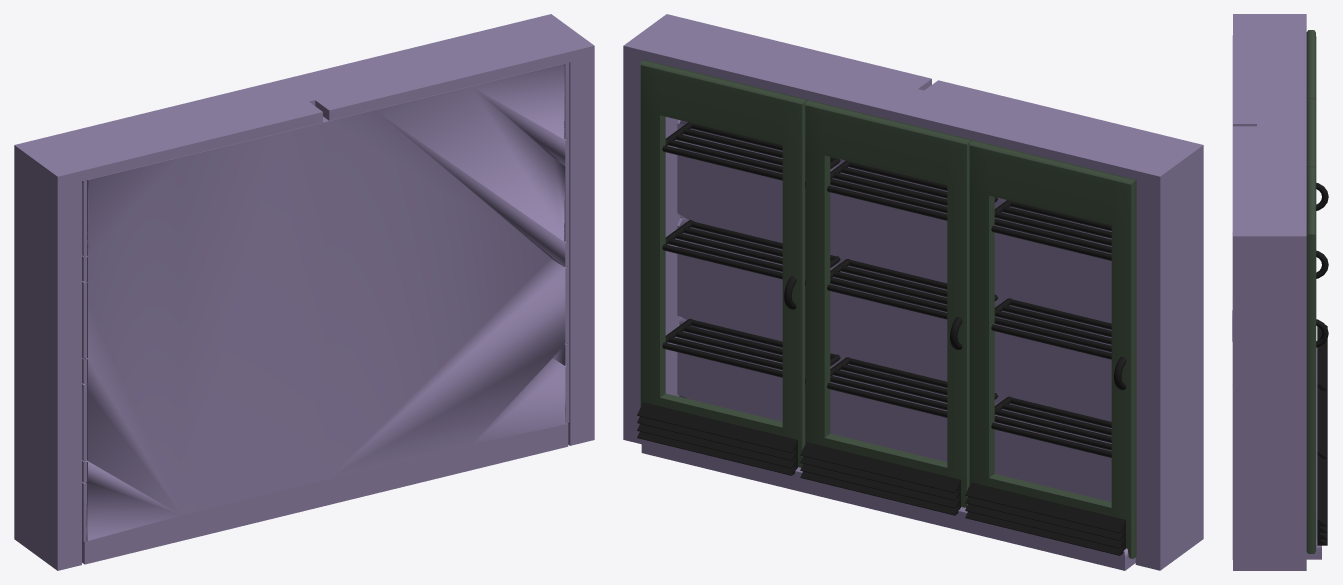
Rendered from Frezer.fbx.
3 views of the same model, side by side, from view 1: azimuth 30°, elevation 25°; view 2: azimuth 150°, elevation 25°; view 3: azimuth 270°, elevation 25° (orthographic). The views are drawn at different scales.
Visible parts, largest first — view 1: Box002; view 2: Box002, Box009, Box006; view 3: Box002, Box009, Box006.
Boxes of the visible parts, bbox=[...] form: Box002: bbox=[14, 14, 594, 570]; Box002: bbox=[623, 14, 1203, 570]; Box009: bbox=[640, 59, 1136, 558]; Box006: bbox=[637, 122, 1126, 555]; Box002: bbox=[1232, 14, 1321, 570]; Box009: bbox=[1306, 30, 1316, 553]; Box006: bbox=[1316, 183, 1328, 545].
Size of the model in its own units: 21.96 by 15.41 by 4.03.
